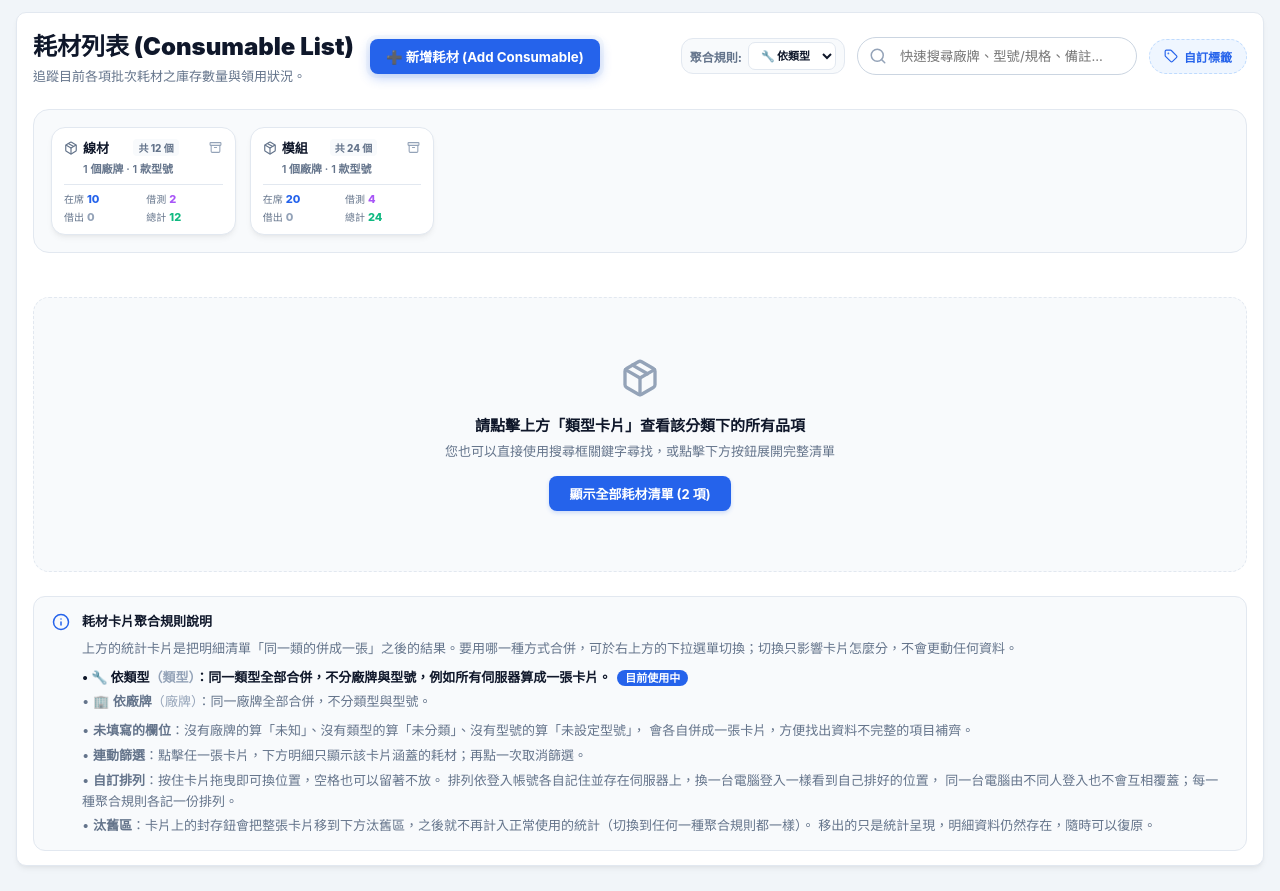
Test case: 設備、硬體與耗材卡片依「廠牌+類型+型號+規格」聚合測試 › ConsumableList 點擊類型卡片鎖定過濾清單，再次點擊取消鎖定，並支援清除類型篩選按鈕
The image size is (1280, 891).
Expected: the heading "耗材列表 (Consumable List)" is shown, x1=33 y1=27 x2=354 y2=62
# 點擊「線材」卡片
Step 1. Click the text "線材" → {"x": 143, "y": 181}, box x1=51 y1=127 x2=236 y2=235
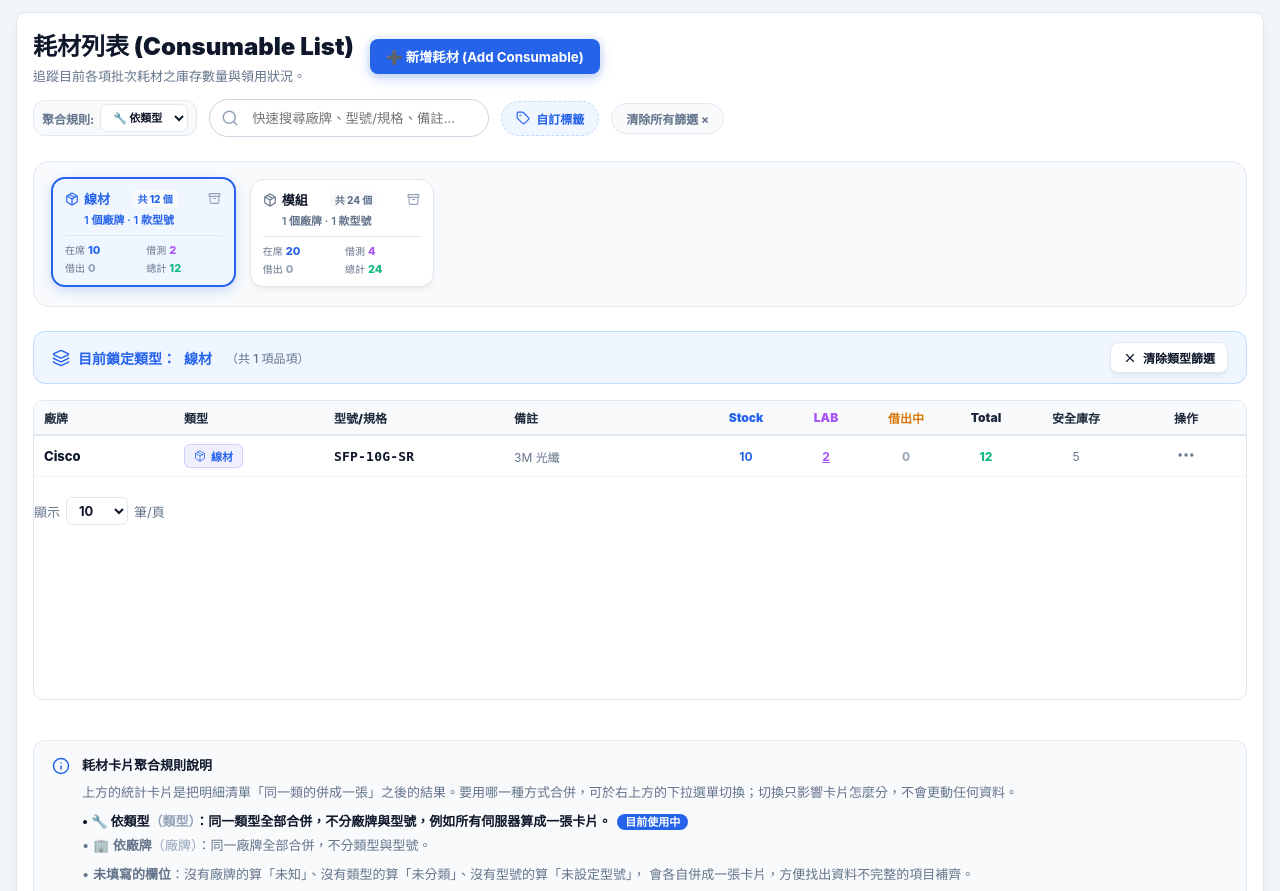
Expected: the text "線材" in the row of "模組" is shown, x1=84 y1=191 x2=110 y2=207
Now the text "目前鎖定類型： 線材 （共 1 項品項）" is shown, box x1=52 y1=348 x2=309 y2=368
Now the cell "3M 光纖" is shown, box x1=504 y1=435 x2=706 y2=476
# 點選「清除類型篩選」按鈕
Step 2. Click the button "清除類型篩選" → {"x": 1169, "y": 358}, box x1=1110 y1=342 x2=1228 y2=373
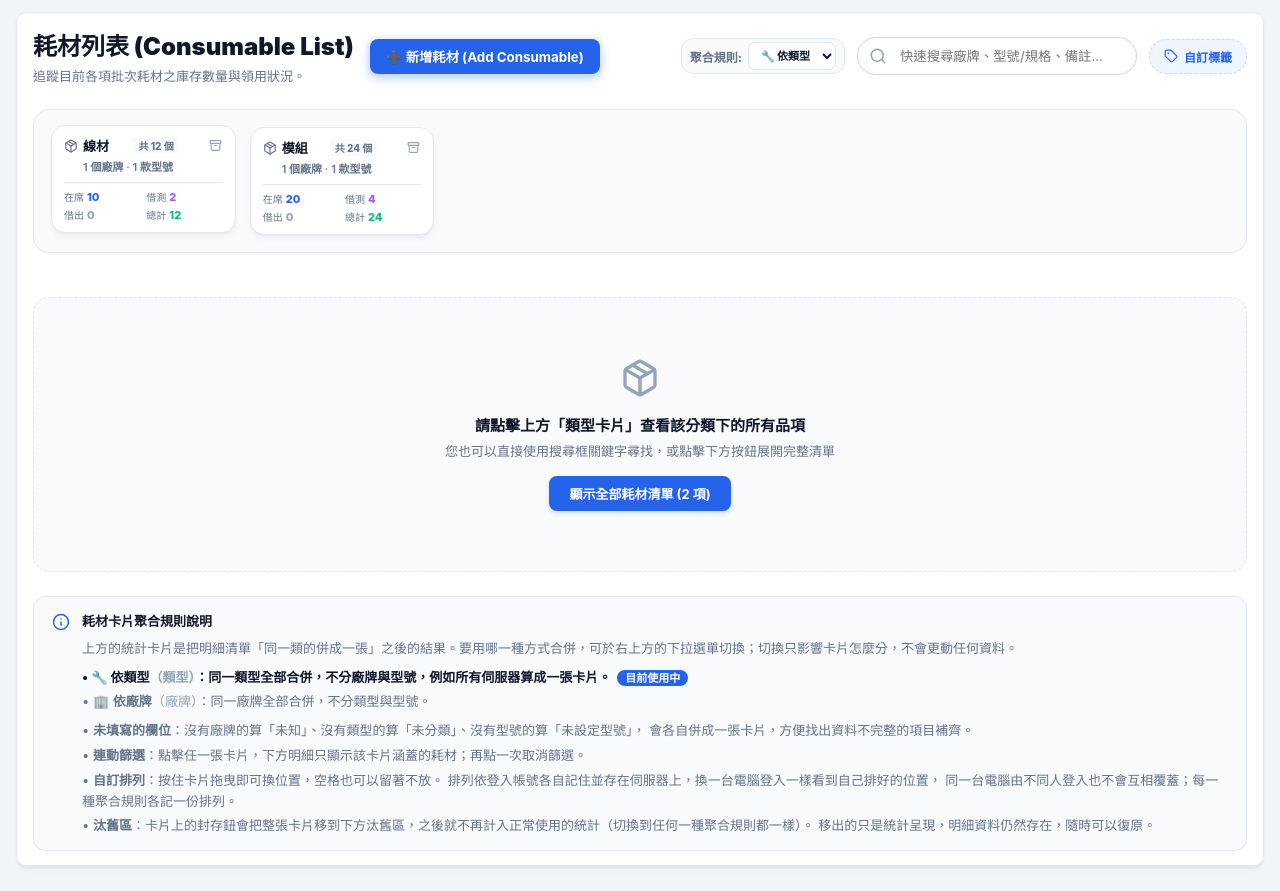
Now the text "目前鎖定類型：" is gone
